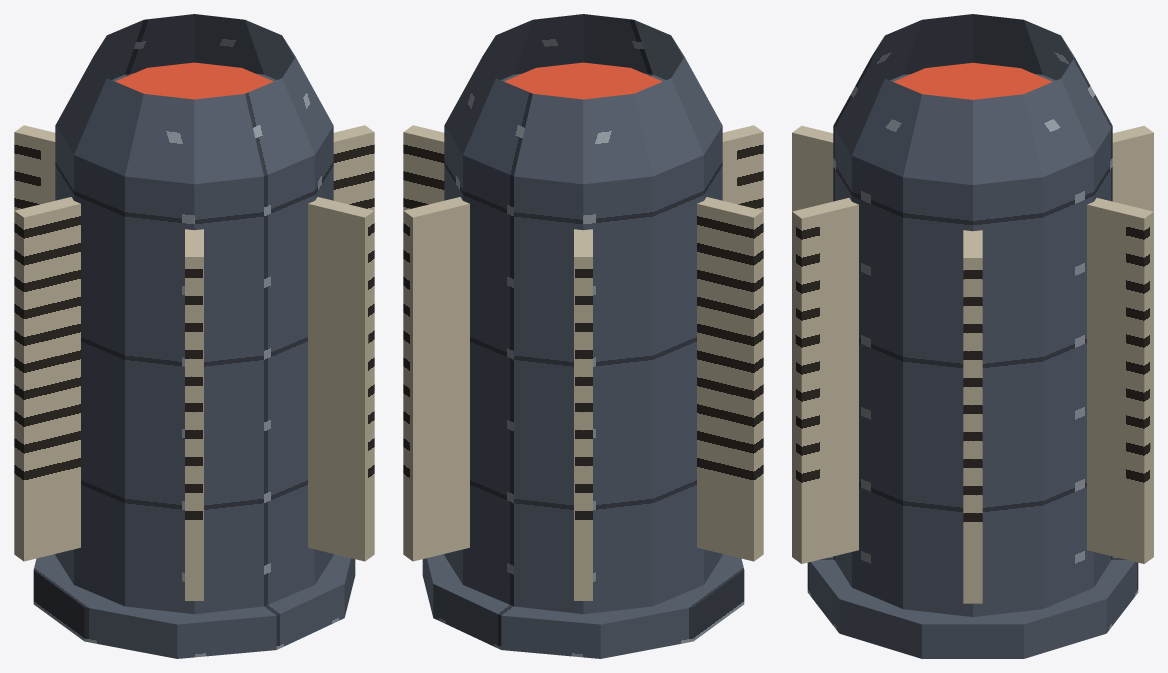
Rendered from sci_ir.glb.
The picture shows the model from 3 angles, left to right: view 1: azimuth 30°, elevation 25°; view 2: azimuth 150°, elevation 25°; view 3: azimuth 270°, elevation 25°; orthographic projection.
Parts seen in each view (by area): view 1: sci_ir; view 2: sci_ir; view 3: sci_ir.
Part boxes in pixels (x1,y1,x2,y2): sci_ir: (14,14,374,658); sci_ir: (403,14,763,658); sci_ir: (792,14,1153,658).
Bounding box in the file's own units: 0.32 × 0.465 × 0.2846.
3 materials, 2 textured.
